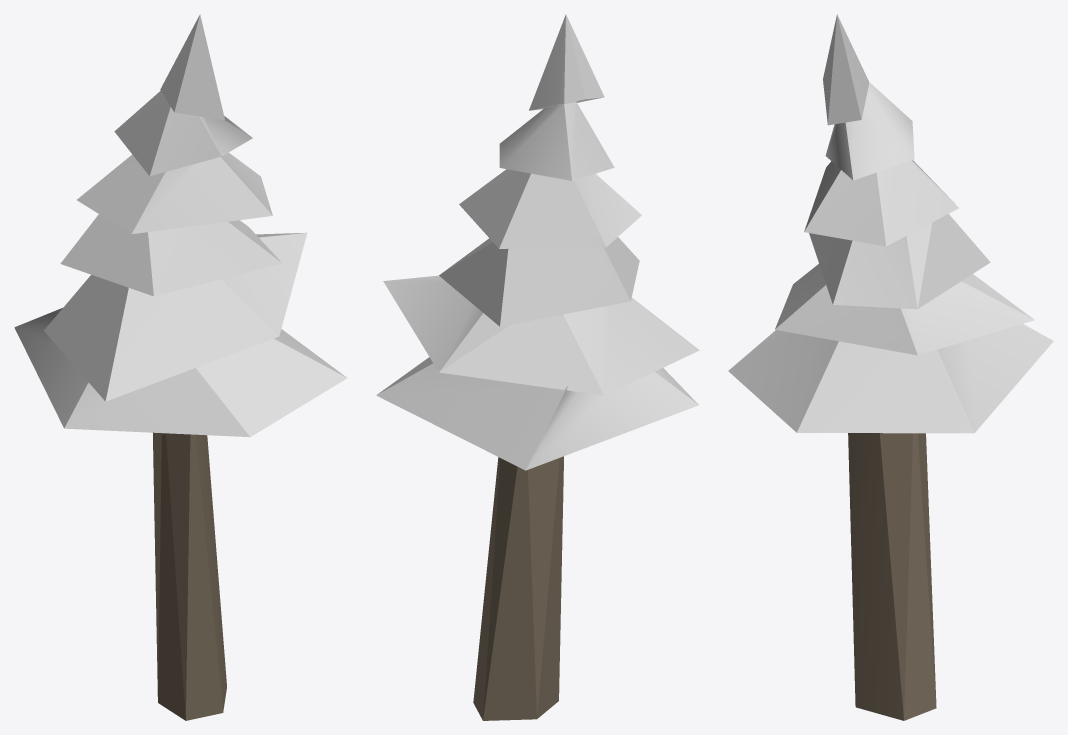
File: Tree_Pine_Snow_Tall_04.fbx
3 views of the same model, side by side, from view 1: azimuth 30°, elevation 25°; view 2: azimuth 150°, elevation 25°; view 3: azimuth 270°, elevation 25° (orthographic). The views are drawn at different scales.
Parts seen in each view (by area): view 1: Model; view 2: Model; view 3: Model.
Boxes of the visible parts, x1,y1,x2,y2 form: Model: [14, 14, 347, 720]; Model: [376, 14, 699, 720]; Model: [728, 14, 1053, 720].
Size of the model in its own units: 631 by 1495 by 651.
